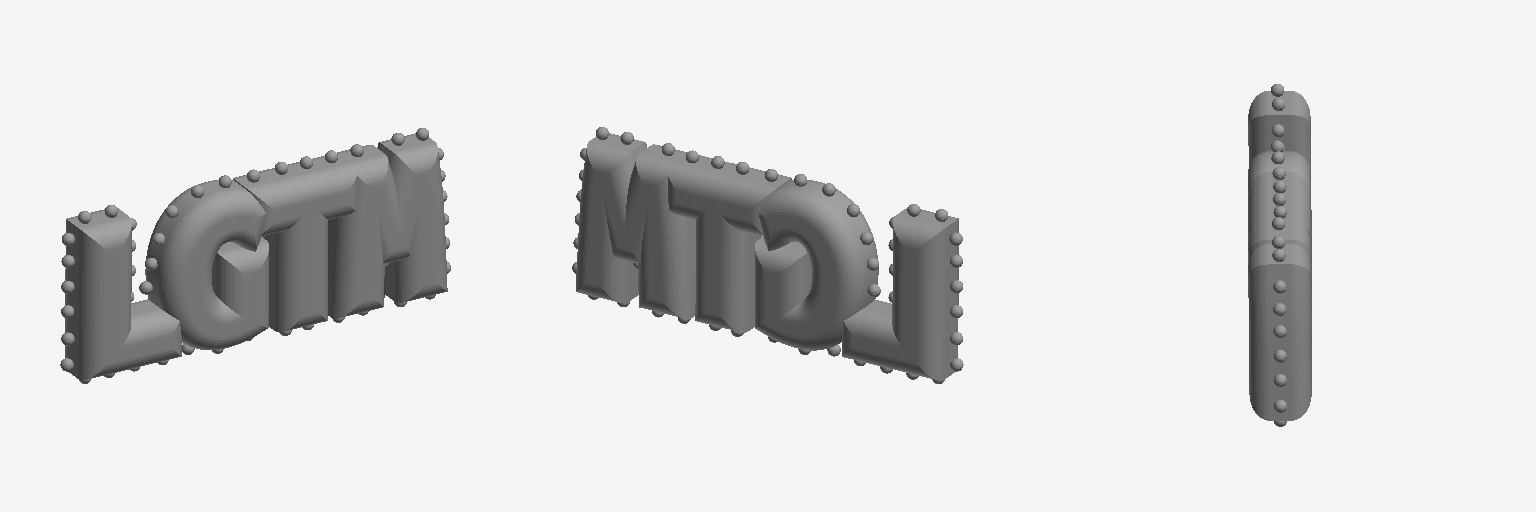
File: shineLGTM.obj
3 views of the same model, side by side, from view 1: azimuth 30°, elevation 25°; view 2: azimuth 150°, elevation 25°; view 3: azimuth 270°, elevation 25° (orthographic).
Parts seen in each view (by area): view 1: Text; view 2: Text; view 3: Text.
Part boxes in pixels (x1,y1,x2,y2): Text: (65,133,447,379); Text: (576,133,958,380); Text: (1248,91,1311,420).
Size of the model in its own units: 4.71 by 2.05 by 0.6652.